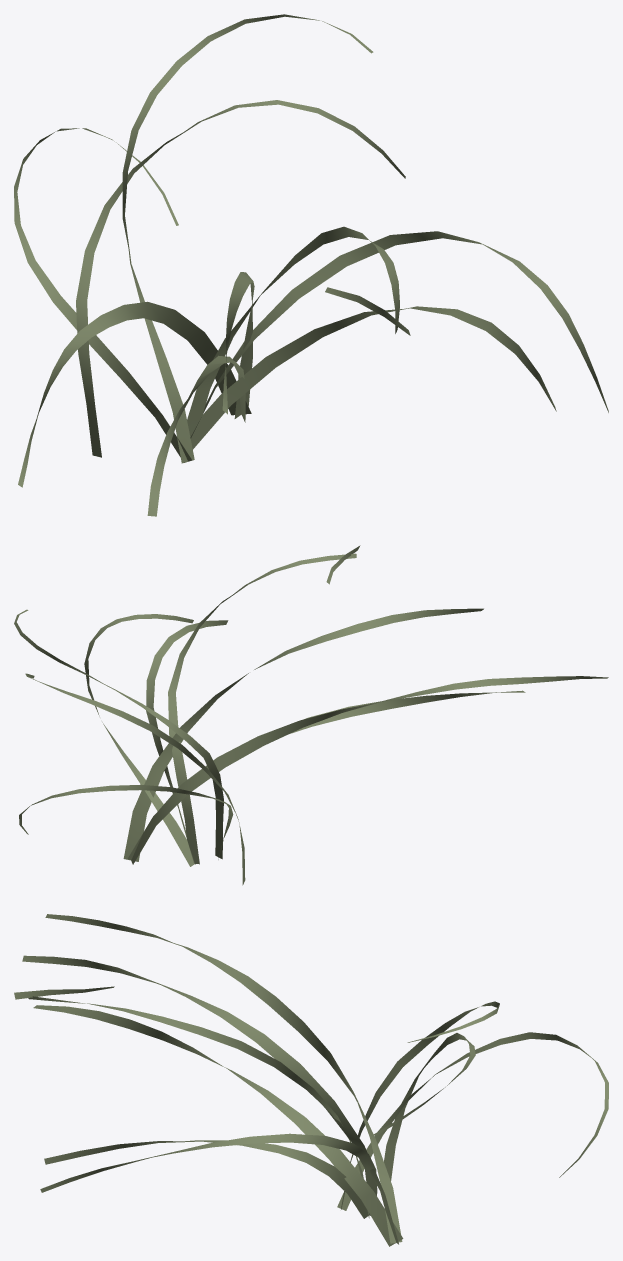
Rendered from grass2.fbx.
The picture shows the model from 3 angles, top to bottom: view 1: azimuth 30°, elevation 25°; view 2: azimuth 150°, elevation 25°; view 3: azimuth 270°, elevation 25°; orthographic projection. The views are drawn at different scales.
Visible parts, largest first — view 1: grassWindWide1Main; view 2: grassWindWide1Main; view 3: grassWindWide1Main.
Part boxes in pixels (<box>): grassWindWide1Main: <box>14,14,608,516</box>; grassWindWide1Main: <box>14,545,608,885</box>; grassWindWide1Main: <box>14,914,608,1246</box>.
Bounding box in the file's own units: 1.17 × 0.6255 × 1.26.
